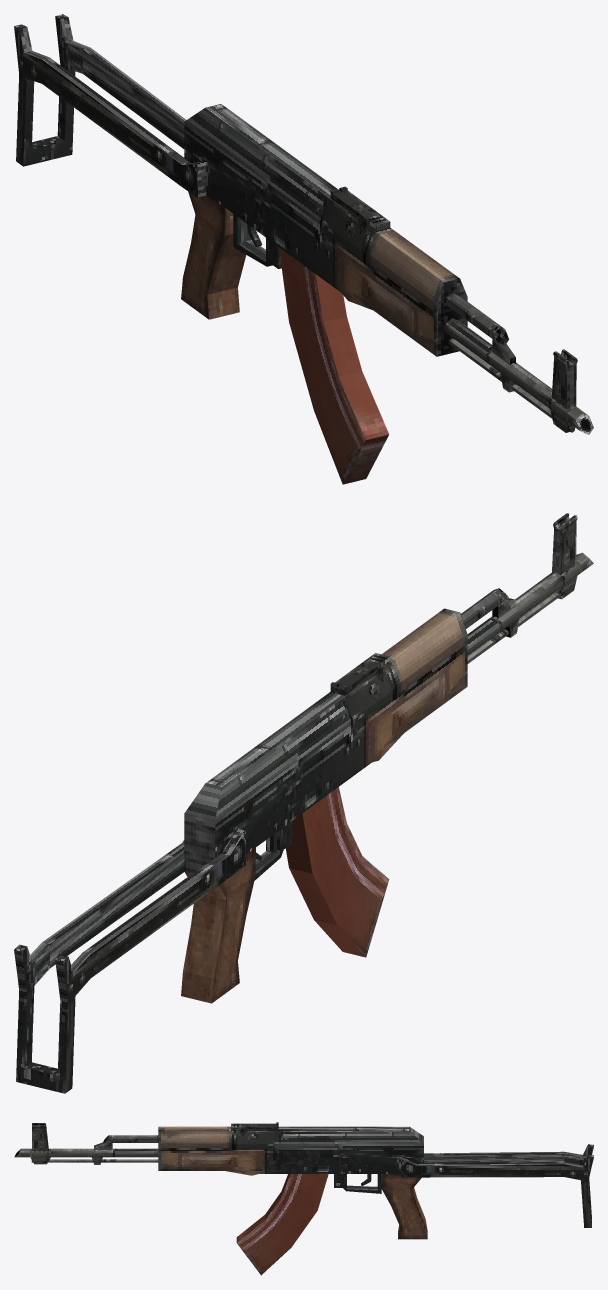
Rendered from PSX_AK-74.glb.
3 renders of one model, top to bottom at view 1: azimuth 30°, elevation 25°; view 2: azimuth 150°, elevation 25°; view 3: azimuth 270°, elevation 25°, orthographic. The views are drawn at different scales.
Visible parts, largest first — view 1: SM_AK-74; view 2: SM_AK-74; view 3: SM_AK-74.
Boxes of the visible parts, left/top/right/bottom form: SM_AK-74: left=14, top=14, right=593, bottom=484; SM_AK-74: left=14, top=513, right=593, bottom=1093; SM_AK-74: left=14, top=1122, right=593, bottom=1275.
Size of the model in its own units: 0.0488 by 0.2673 by 0.9483.
Materials: 1 (1 with a texture image).
